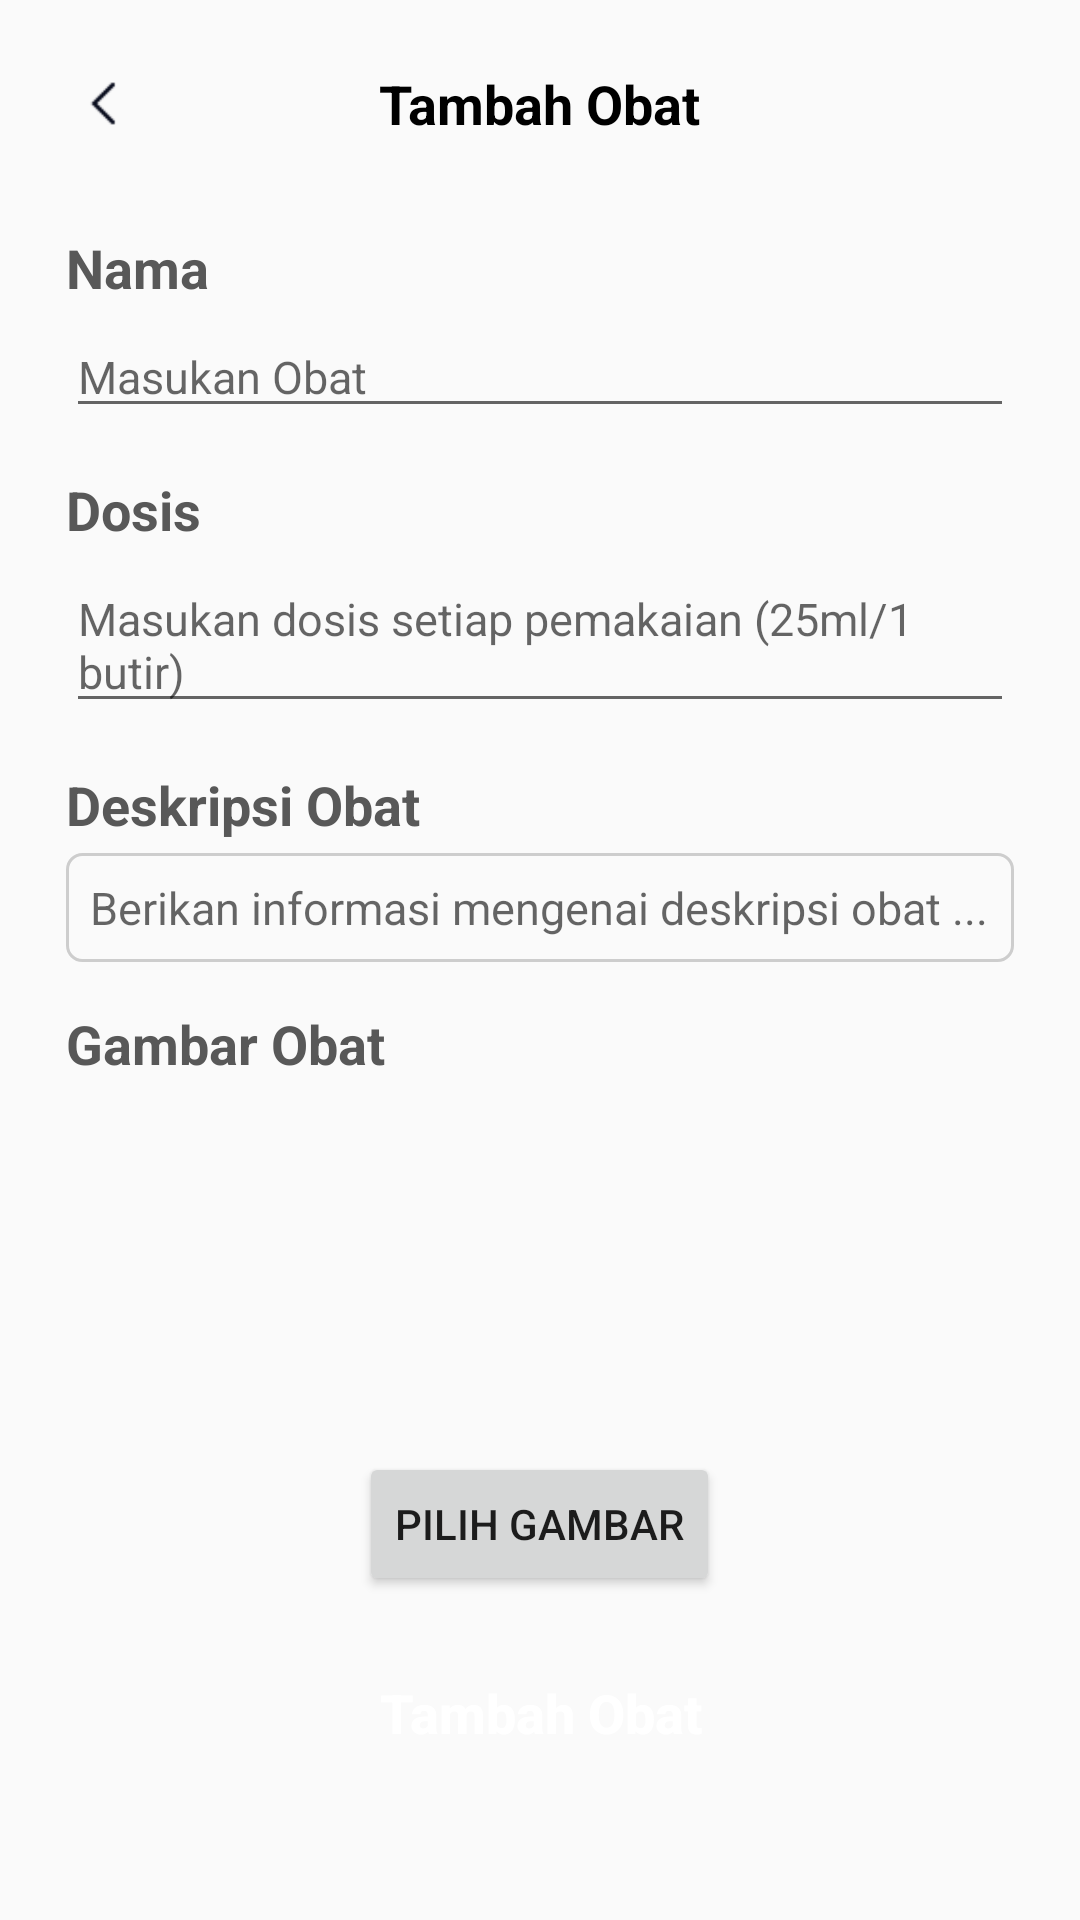

Where to tap for icons on this 1080 x 1920 app screen, as [x,y]:
back: [103,103]
